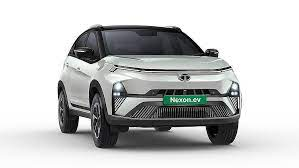Tata Nexon: (53, 21, 242, 150)
